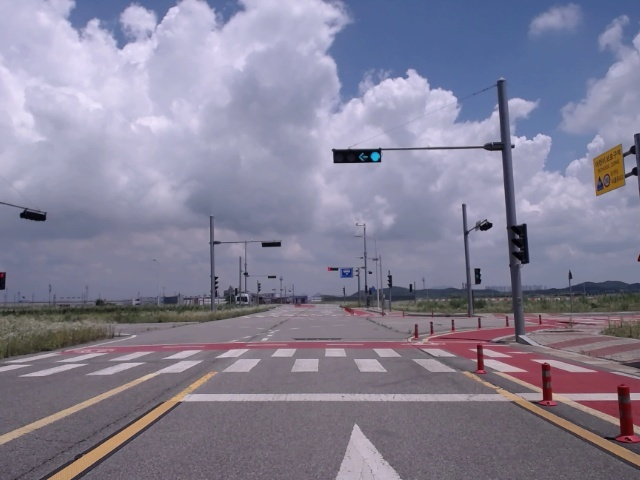all_green_4: (331, 149, 381, 162)
